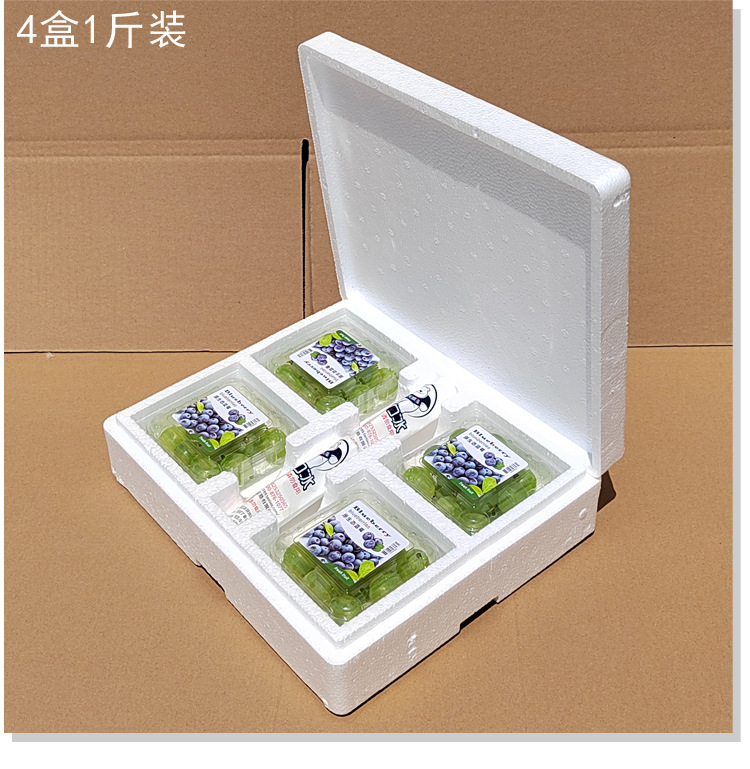Boxes: (104, 34, 630, 714)
